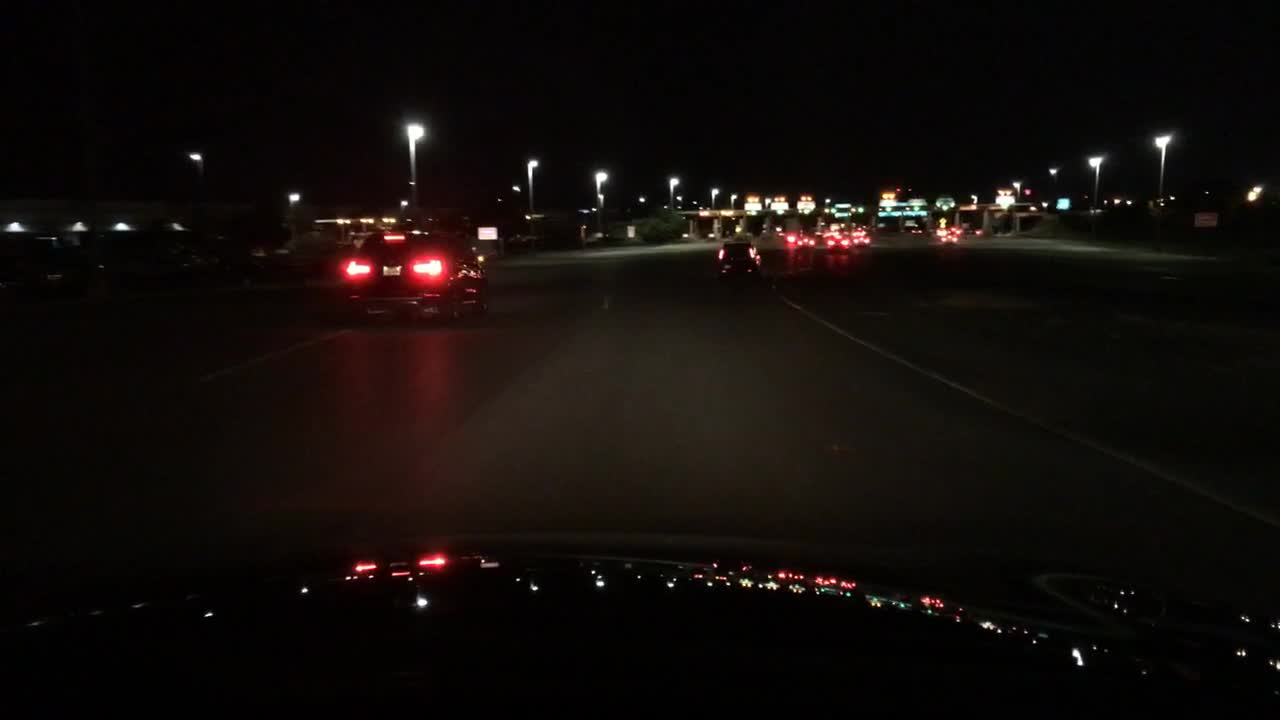car: (333, 227, 489, 322), (96, 226, 217, 289), (189, 226, 307, 283), (0, 234, 90, 307), (715, 240, 761, 277), (784, 231, 815, 249), (827, 234, 855, 249), (934, 234, 960, 247), (852, 234, 868, 246), (934, 228, 950, 240), (818, 228, 842, 235), (850, 226, 867, 235), (948, 225, 963, 235)
traffic sign: (878, 198, 927, 217), (1193, 212, 1217, 226), (478, 227, 496, 240), (936, 197, 956, 208), (835, 203, 850, 215), (1056, 194, 1067, 208), (624, 224, 634, 239), (937, 214, 946, 228), (795, 202, 815, 208), (770, 203, 790, 209), (743, 203, 760, 209)
